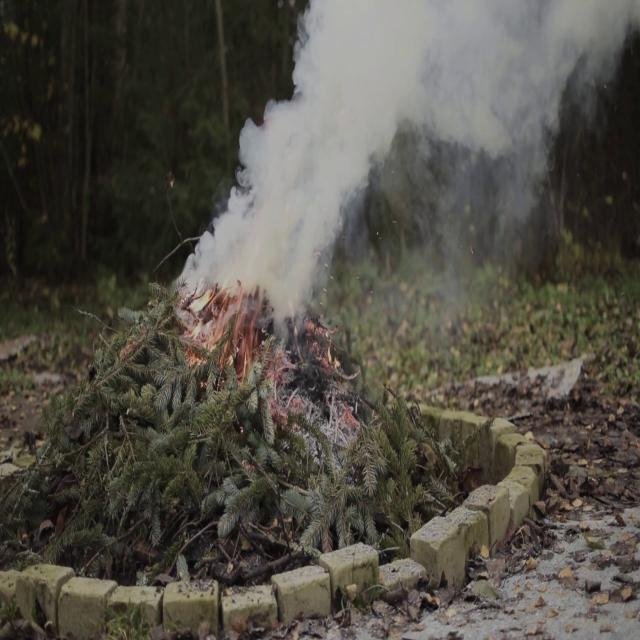Smoke: (178, 0, 640, 317)
